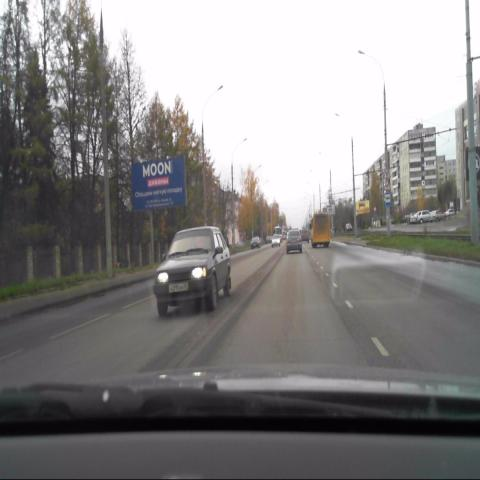1_20_2: (382, 166, 392, 180)
1_23: (382, 179, 392, 191)
5_16: (384, 189, 391, 207)
